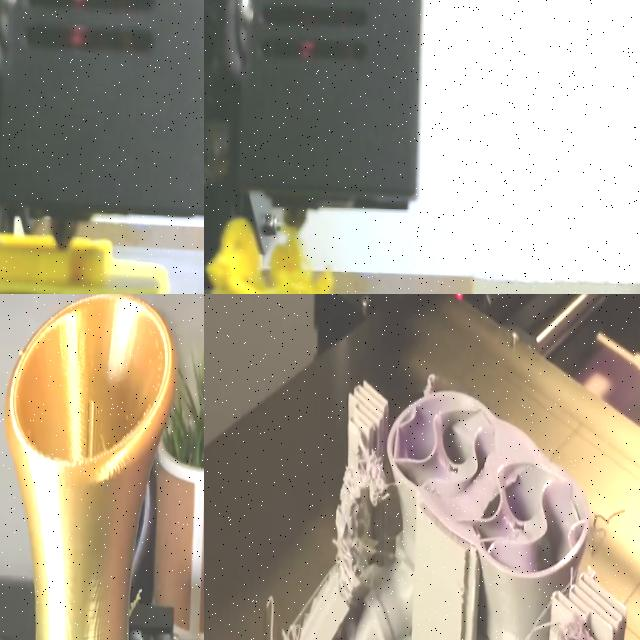spaghetti: (207, 223, 341, 294), (220, 591, 321, 640), (586, 502, 622, 576), (356, 449, 396, 508), (421, 364, 445, 409)
